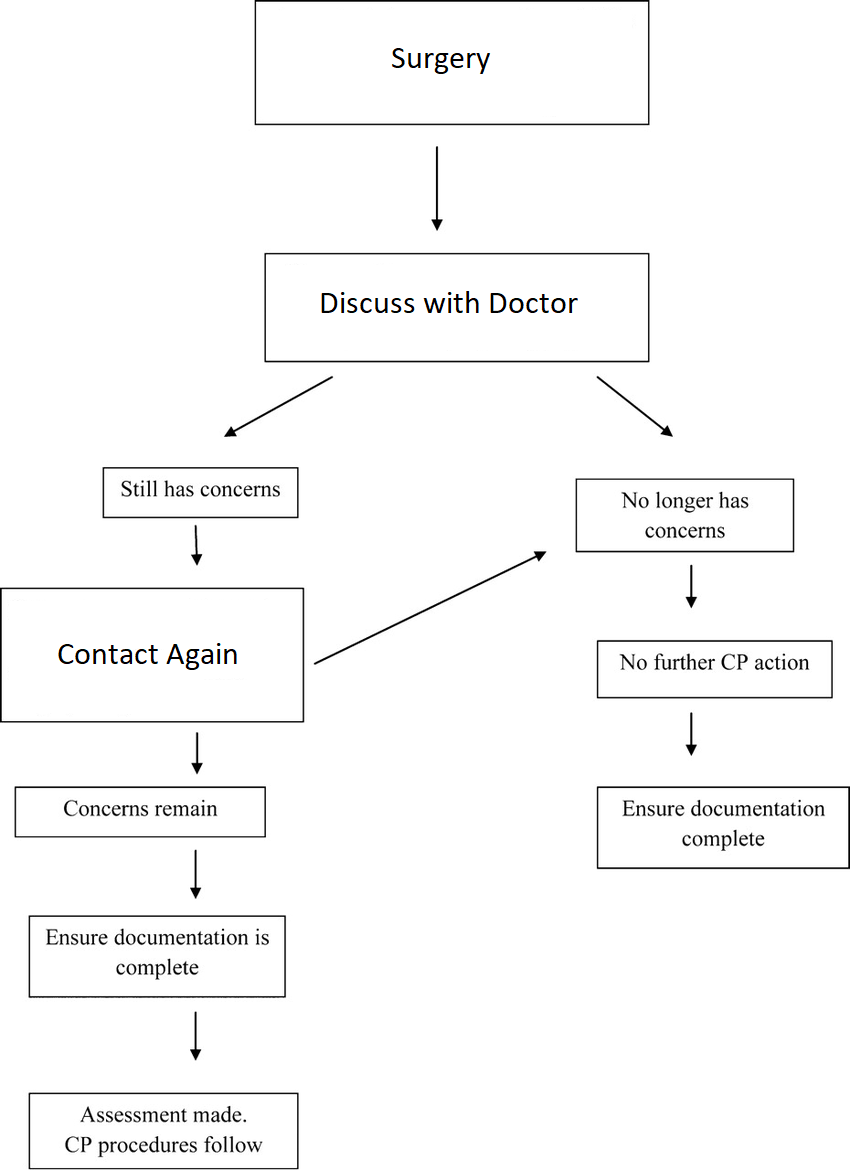arrow: (311, 545, 555, 668), (220, 370, 343, 443), (588, 368, 679, 447), (423, 139, 446, 236), (679, 557, 704, 611), (680, 705, 704, 759), (186, 1004, 207, 1063), (187, 727, 209, 779), (184, 845, 205, 898), (186, 520, 207, 568)
process: (250, 2, 655, 131), (255, 247, 659, 370), (2, 584, 309, 730), (21, 909, 295, 1004), (591, 780, 850, 875), (21, 1086, 307, 1170), (570, 472, 798, 559), (591, 634, 836, 704), (9, 779, 271, 843), (98, 459, 304, 522)
text: (43, 923, 273, 984), (618, 795, 830, 855), (59, 1100, 268, 1157), (311, 286, 588, 318), (614, 488, 755, 543), (52, 638, 241, 675), (613, 647, 816, 675), (113, 475, 284, 502), (384, 41, 496, 80), (59, 795, 220, 820)
